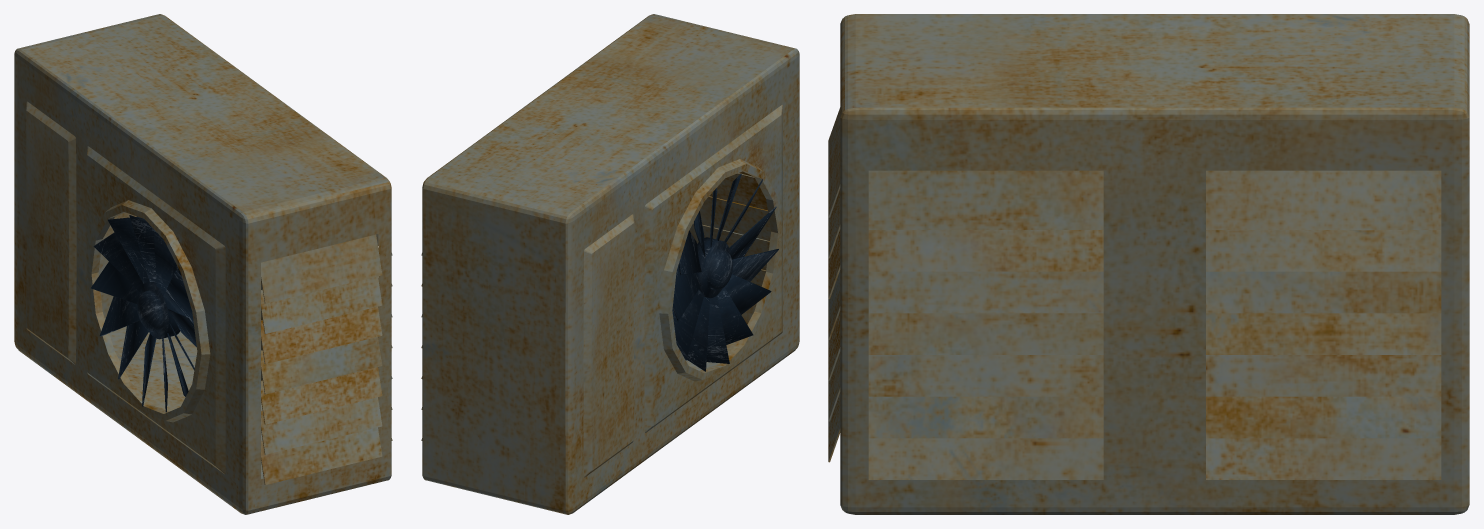
Rendered from clima3.fbx.
3 renders of one model, left to right at view 1: azimuth 30°, elevation 25°; view 2: azimuth 150°, elevation 25°; view 3: azimuth 270°, elevation 25°, orthographic. The views are drawn at different scales.
Parts seen in each view (by area): view 1: AireLavadoLp, Laterales.002, VentiladorLp; view 2: AireLavadoLp, VentiladorLp, Laterales.002; view 3: AireLavadoLp, Laterales.002.
Part boxes in pixels (<box>): AireLavadoLp: <box>14,14,392,514</box>; Laterales.002: <box>261,276,392,484</box>; VentiladorLp: <box>91,215,196,412</box>; AireLavadoLp: <box>421,14,799,514</box>; VentiladorLp: <box>672,174,778,371</box>; Laterales.002: <box>421,171,770,440</box>; AireLavadoLp: <box>828,14,1469,514</box>; Laterales.002: <box>828,188,1441,479</box>.
Size of the model in its own units: 0.331 by 0.7844 by 0.55.
2 materials, 2 textured.
